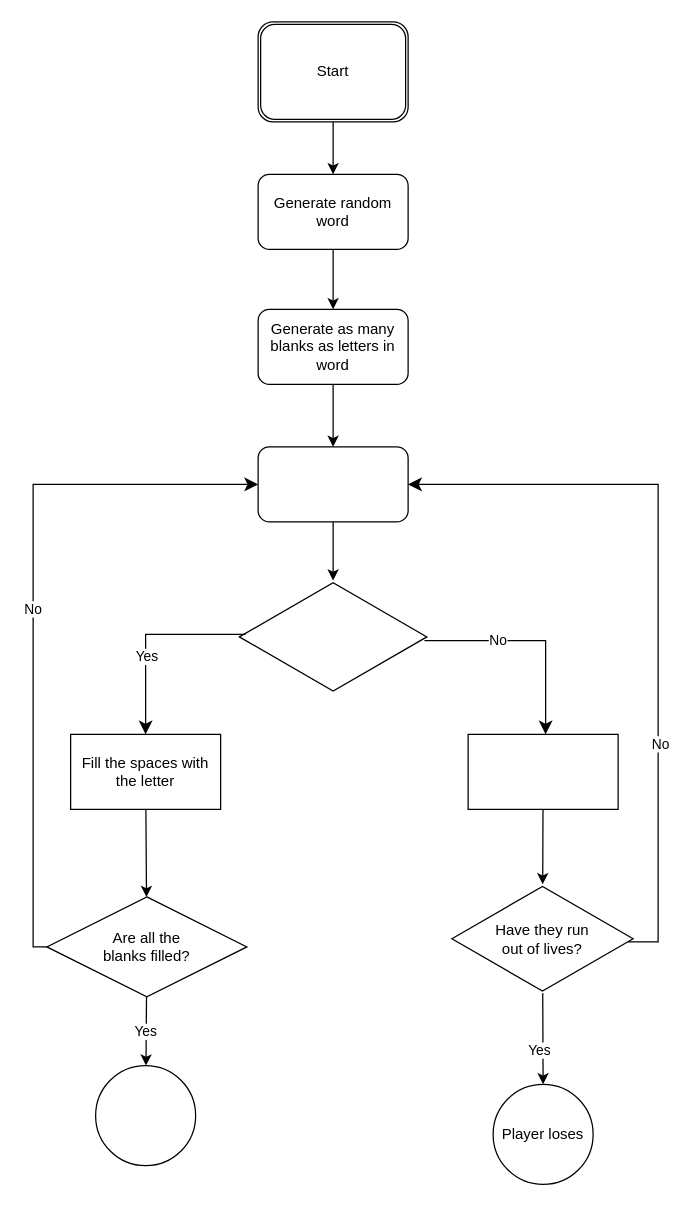
The diagram is 693 pixels wide and 1206 high, and some of its shapes have lost their labels. The box of each missing label's shape, as (x1, y1, x2, y2) in pixels:
Ask a user to guess a letter: (257, 446, 408, 522)
Is the guess letter in the word?: (238, 579, 427, 693)
Lose a life: (467, 733, 618, 809)
Player wins: (94, 1064, 196, 1166)
